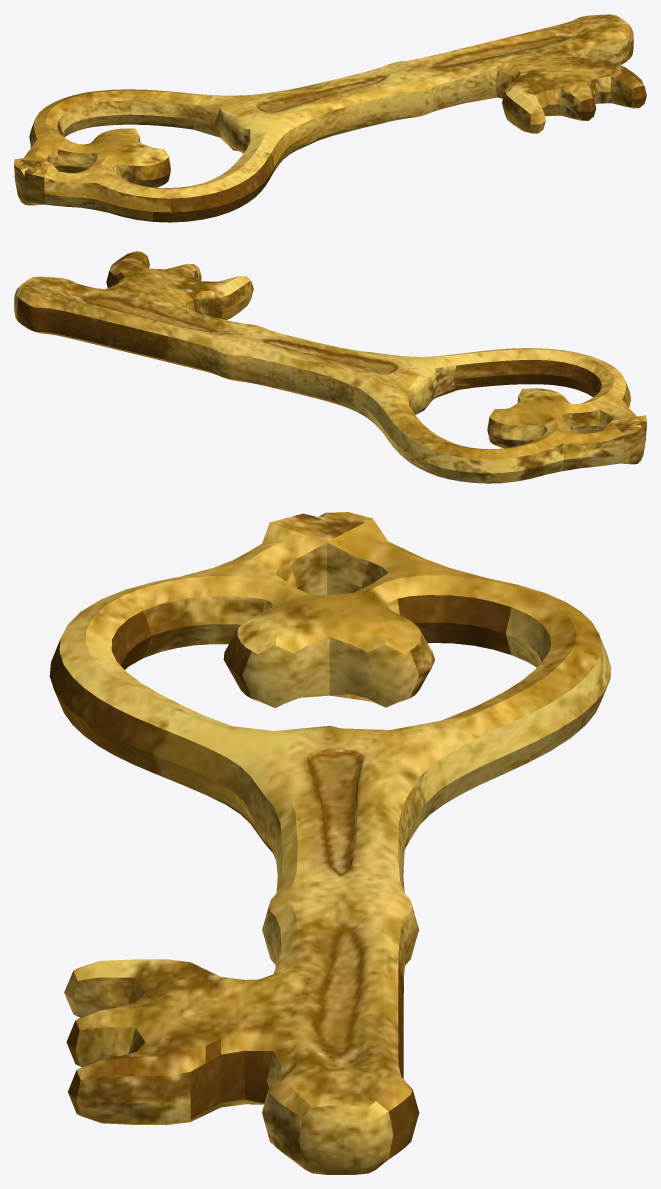
Rendered from Key.fbx.
3 views of the same model, one above another, from view 1: azimuth 30°, elevation 25°; view 2: azimuth 150°, elevation 25°; view 3: azimuth 270°, elevation 25° (orthographic). The views are drawn at different scales.
Visible parts, largest first — view 1: Key; view 2: Key; view 3: Key.
Part boxes in pixels (left/top/right/bottom): Key: left=14, top=14, right=646, bottom=222; Key: left=14, top=251, right=646, bottom=483; Key: left=49, top=512, right=611, bottom=1174.
Bounding box in the file's own units: 431 × 171 × 24.18.
